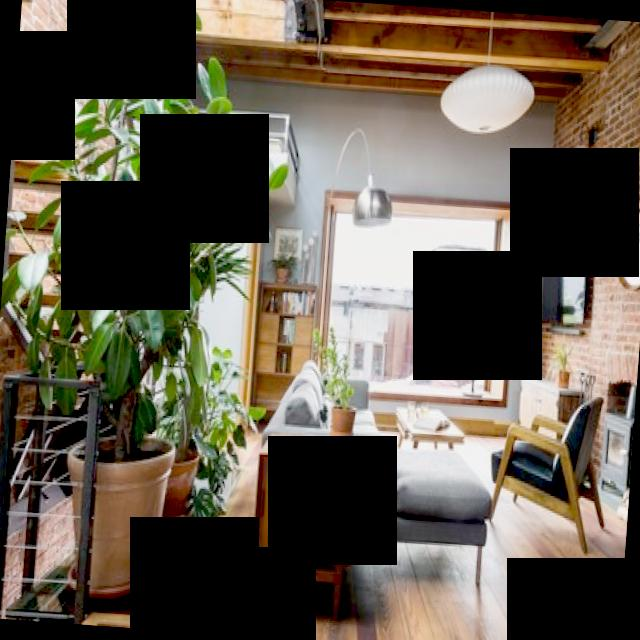vintage chair: (480, 387, 613, 560)
vintage desk: (244, 427, 366, 623)
